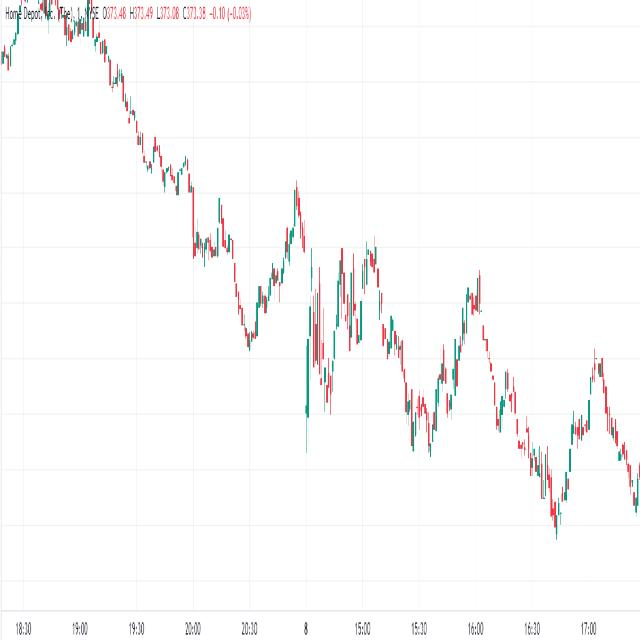Channel-down: (186, 114, 638, 583)
